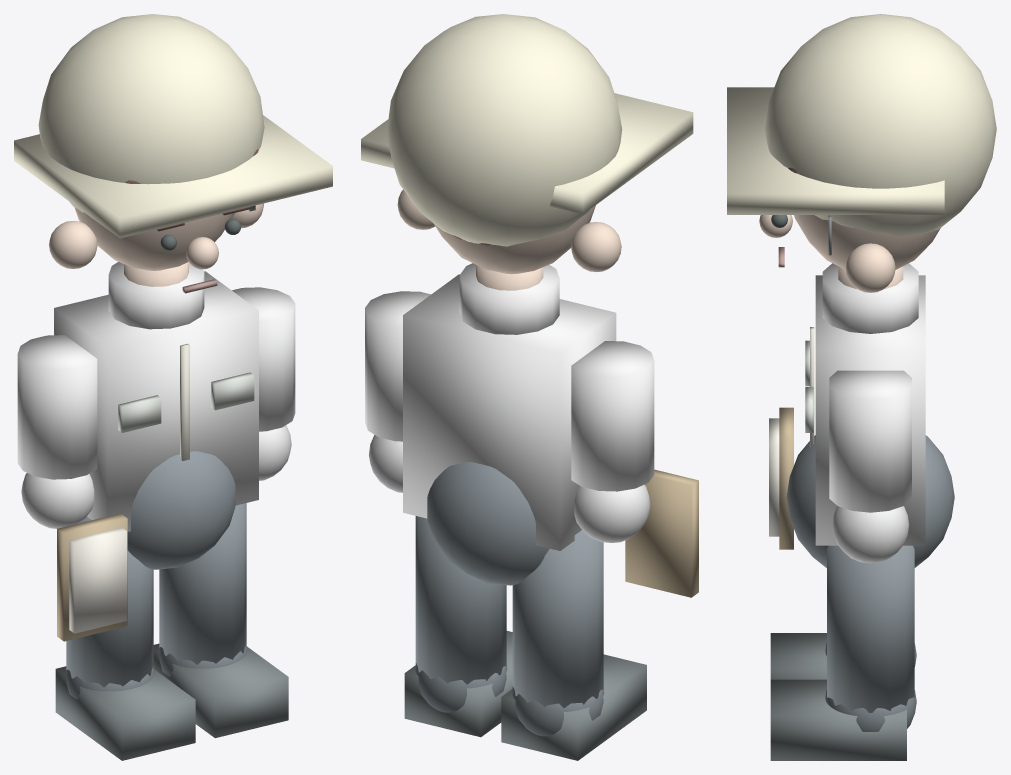
File: mercy_person_03.glb
3 renders of one model, left to right at view 1: azimuth 30°, elevation 25°; view 2: azimuth 150°, elevation 25°; view 3: azimuth 270°, elevation 25°, orthographic. The views are drawn at different scales.
Visible parts, largest first — view 1: SkinClothing_8, SkinClothing_0, Arm_Left, Leg_Right, SkinClothing_1, Boot_Left, SkinClothing_2, Boot_Right, Leg_Left, Arm_Right, SkinClothing_11, SkinClothing_10 (+2 smaller); view 2: SkinClothing_8, SkinClothing_0, Leg_Left, Arm_Left, Leg_Right, SkinClothing_1, SkinClothing_2, Arm_Right, SkinClothing_10, Boot_Left, Boot_Right; view 3: SkinClothing_8, SkinClothing_0, Arm_Right, Leg_Right, Boot_Right, SkinClothing_2, SkinClothing_1, Boot_Left, SkinClothing_10, SkinClothing_11, SkinClothing_4.
Boxes of the visible parts, <box> form: SkinClothing_8: <box>14,14,332,238</box>; SkinClothing_0: <box>54,262,258,531</box>; Arm_Left: <box>17,335,97,528</box>; Leg_Right: <box>158,503,247,676</box>; SkinClothing_1: <box>127,451,235,569</box>; Boot_Left: <box>55,666,195,760</box>; SkinClothing_2: <box>49,203,263,286</box>; Boot_Right: <box>153,643,288,738</box>; Leg_Left: <box>65,516,154,699</box>; Arm_Right: <box>232,287,295,480</box>; SkinClothing_11: <box>69,527,126,633</box>; SkinClothing_10: <box>57,513,127,641</box>; SkinClothing_8: <box>361,14,693,246</box>; SkinClothing_0: <box>403,263,616,550</box>; Leg_Left: <box>512,530,604,736</box>; Arm_Left: <box>571,341,654,542</box>; Leg_Right: <box>415,516,507,712</box>; SkinClothing_1: <box>427,462,549,585</box>; SkinClothing_2: <box>397,189,621,290</box>; Arm_Right: <box>365,291,430,492</box>; SkinClothing_10: <box>625,469,698,597</box>; Boot_Left: <box>501,654,646,760</box>; Boot_Right: <box>404,631,512,737</box>; SkinClothing_8: <box>727,14,996,236</box>; SkinClothing_0: <box>815,263,925,545</box>; Arm_Right: <box>829,370,911,563</box>; Leg_Right: <box>825,545,916,731</box>; Boot_Right: <box>770,679,906,760</box>; SkinClothing_2: <box>759,215,940,292</box>; SkinClothing_1: <box>786,435,954,567</box>; Boot_Left: <box>770,633,826,679</box>; SkinClothing_10: <box>779,407,793,549</box>; SkinClothing_11: <box>769,418,779,536</box>; SkinClothing_4: <box>805,340,813,432</box>.
Size of the model in its own units: 1.05 by 2.52 by 0.8842.
